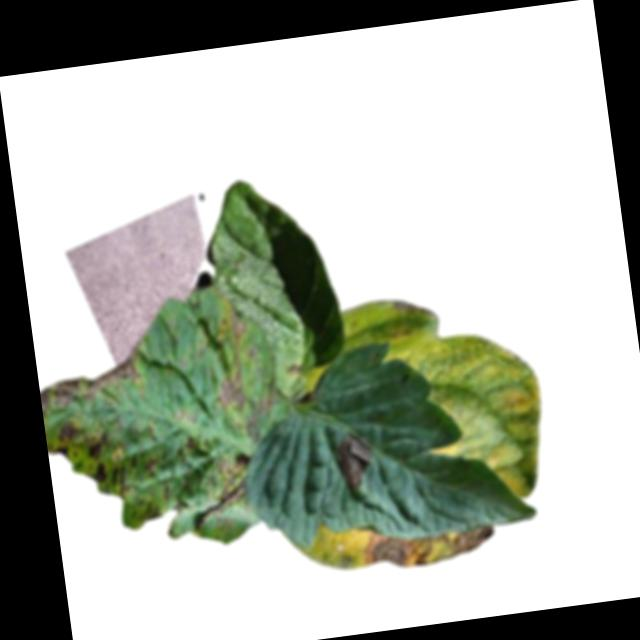Early_blight: (359, 518, 498, 576), (36, 345, 144, 417), (183, 454, 254, 532), (329, 430, 379, 494), (44, 416, 87, 462), (83, 430, 113, 488), (110, 452, 143, 502), (215, 369, 250, 413), (218, 304, 249, 349), (143, 456, 163, 482), (141, 505, 163, 524), (180, 435, 197, 453), (285, 365, 301, 380)
